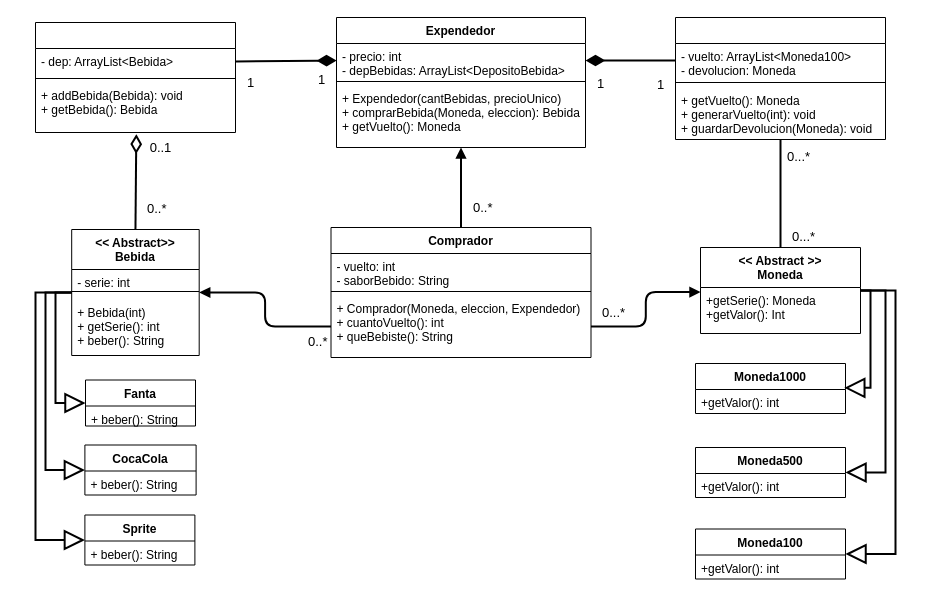
Some shapes in this 931 by 599 pixel diagram are drawn without their labels. The box of each missing label's shape, as (x1, y1, x2, y2) in pixels:
DepositoBebida: (34, 22, 236, 132)
DepositoVuelto: (674, 16, 886, 140)
